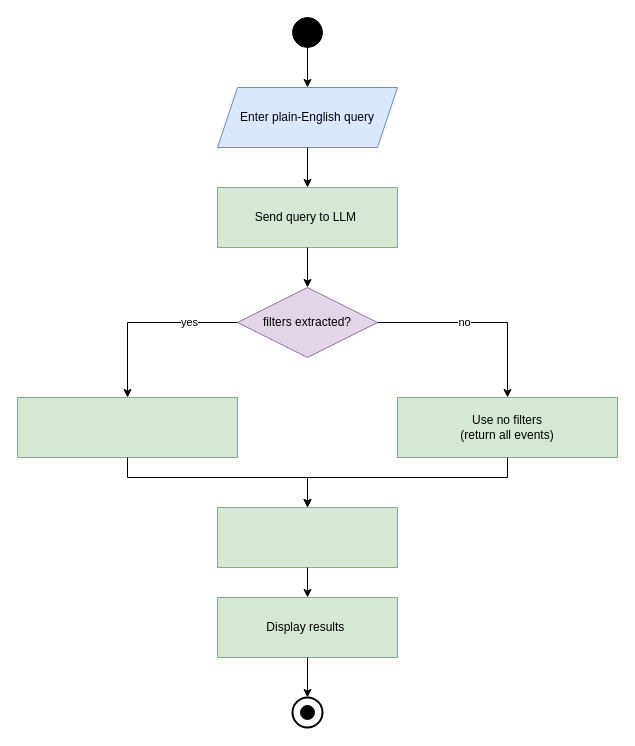
Image size: 635x746. Some labels were removed from this diagram. Each missing label, with the centre of its shape:
Build structured filters (time range, type): the point at 127,427
Query events in DB: the point at 307,537
